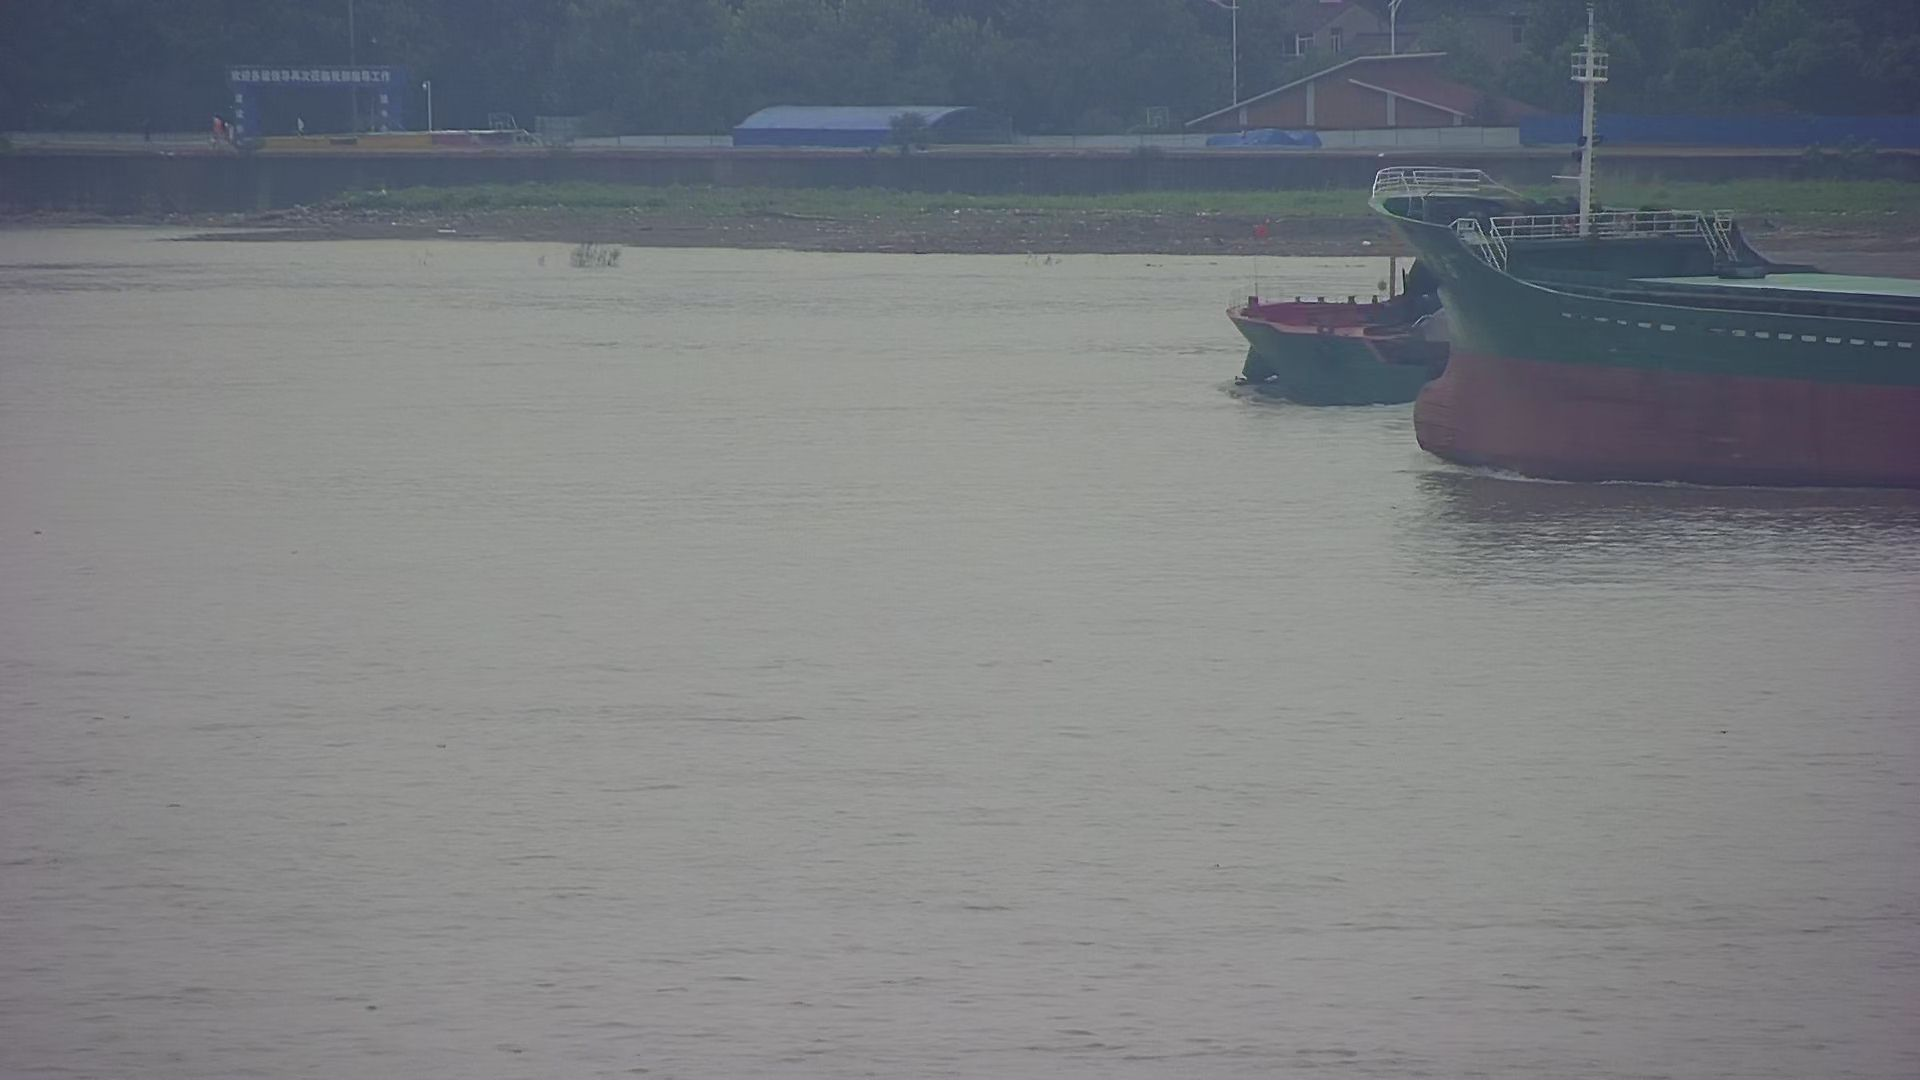ship: (1369, 9, 1920, 491), (1218, 208, 1920, 415)
